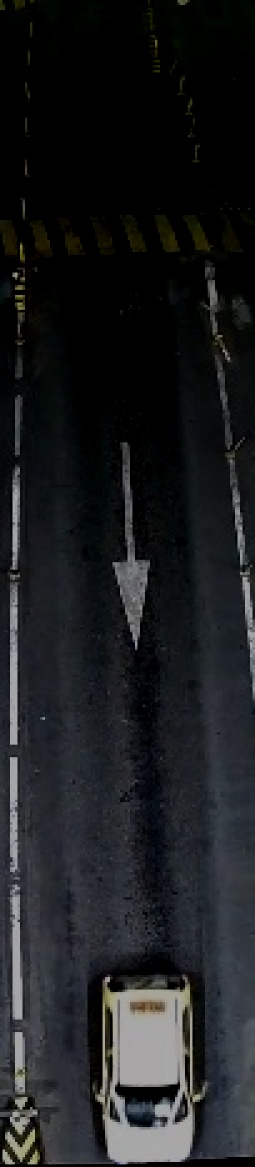car: (86, 962, 216, 1163)
